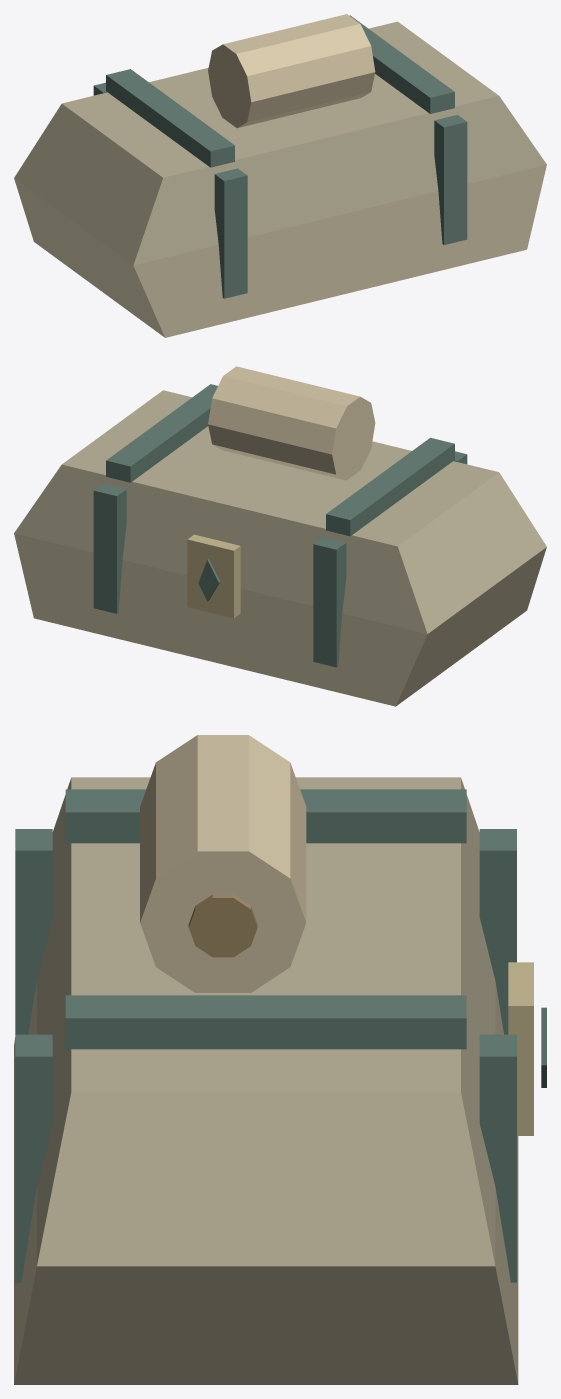
File: SWP_BandageParcel.fbx
3 views of the same model, one above another, from view 1: azimuth 30°, elevation 25°; view 2: azimuth 150°, elevation 25°; view 3: azimuth 270°, elevation 25° (orthographic). The views are drawn at different scales.
Parts seen in each view (by area): view 1: SWP_BandageParcel; view 2: SWP_BandageParcel; view 3: SWP_BandageParcel.
Part boxes in pixels (box(x1,y1,x2,y2)): SWP_BandageParcel: box(14, 14, 546, 337); SWP_BandageParcel: box(14, 366, 546, 706); SWP_BandageParcel: box(14, 735, 546, 1384).
Size of the model in its own units: 0.32 by 0.1626 by 0.186.
